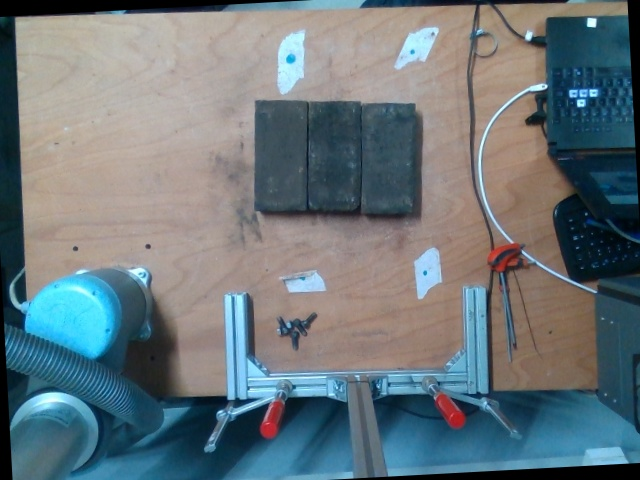brick: (307, 100, 362, 211), (254, 99, 307, 209), (362, 102, 415, 212)
